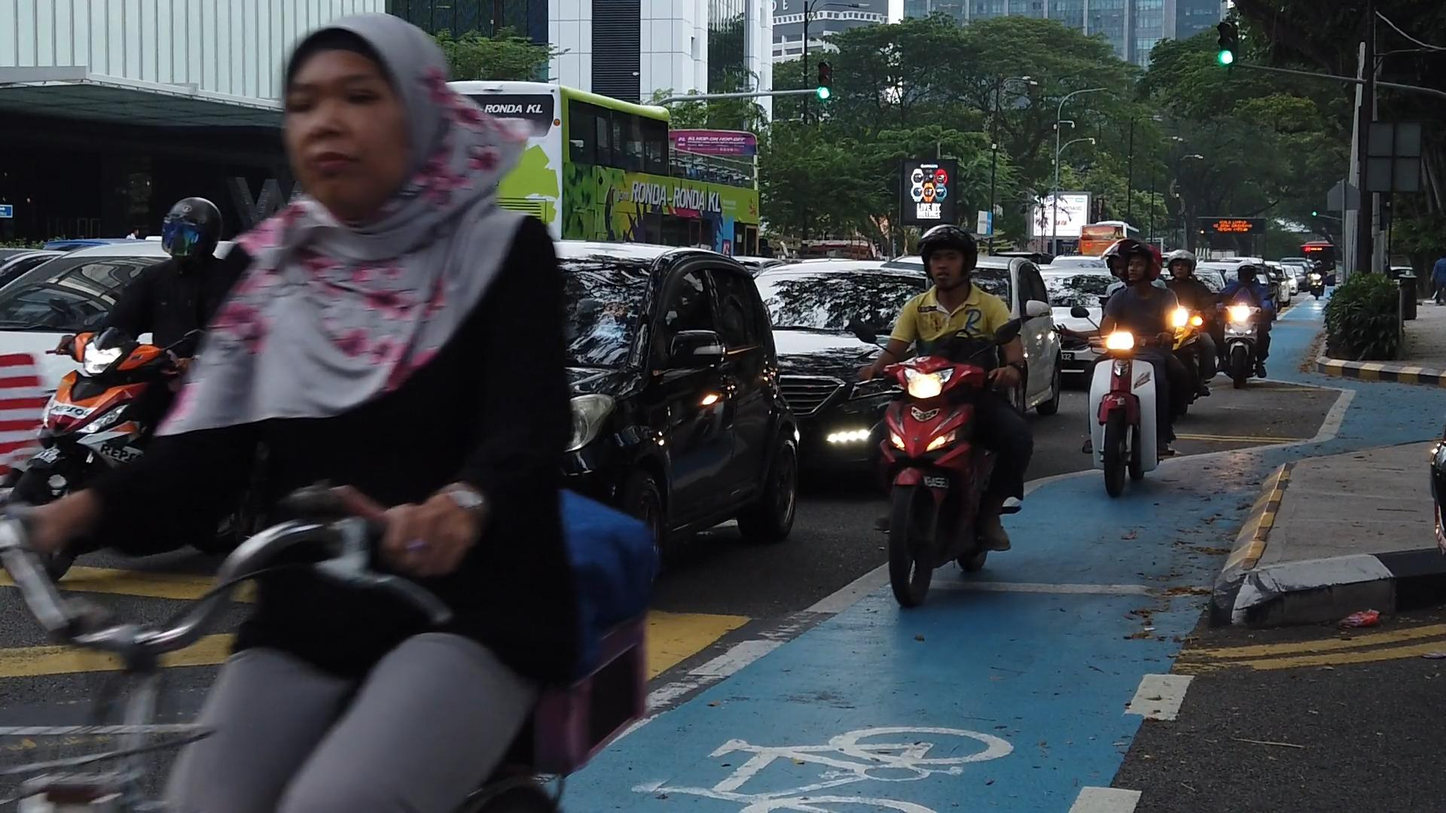bicyclist: (1, 10, 655, 813)
driver: (3, 197, 255, 582), (852, 224, 1034, 607), (1071, 238, 1189, 501), (1214, 260, 1277, 388)
helmet: (918, 224, 978, 292), (162, 197, 223, 259), (1118, 238, 1162, 284), (1167, 249, 1197, 280)
no-helmet: (282, 9, 449, 225)
